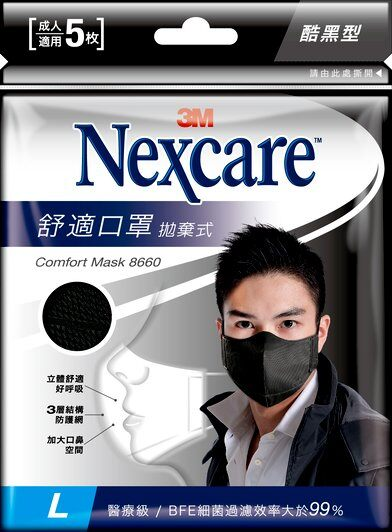Mask: (215, 264, 326, 399)
